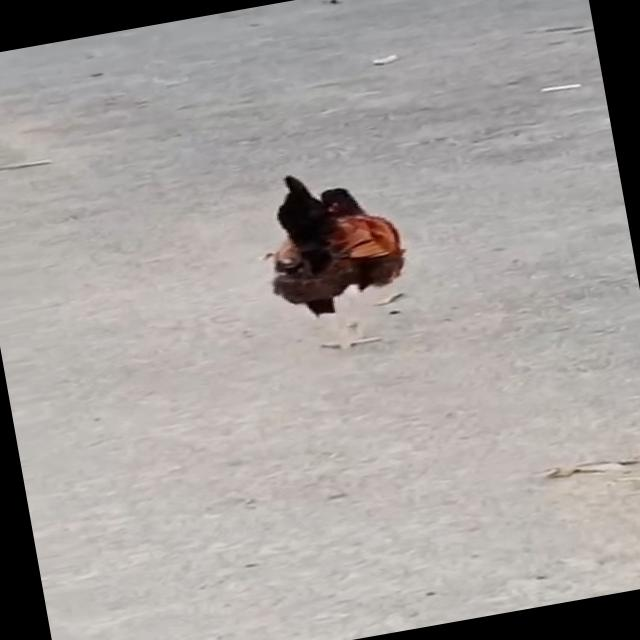walking: (232, 138, 446, 372)
